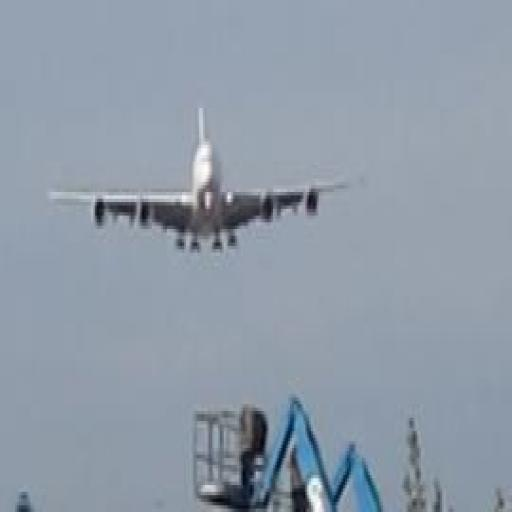aircraft: (47, 105, 365, 255)
